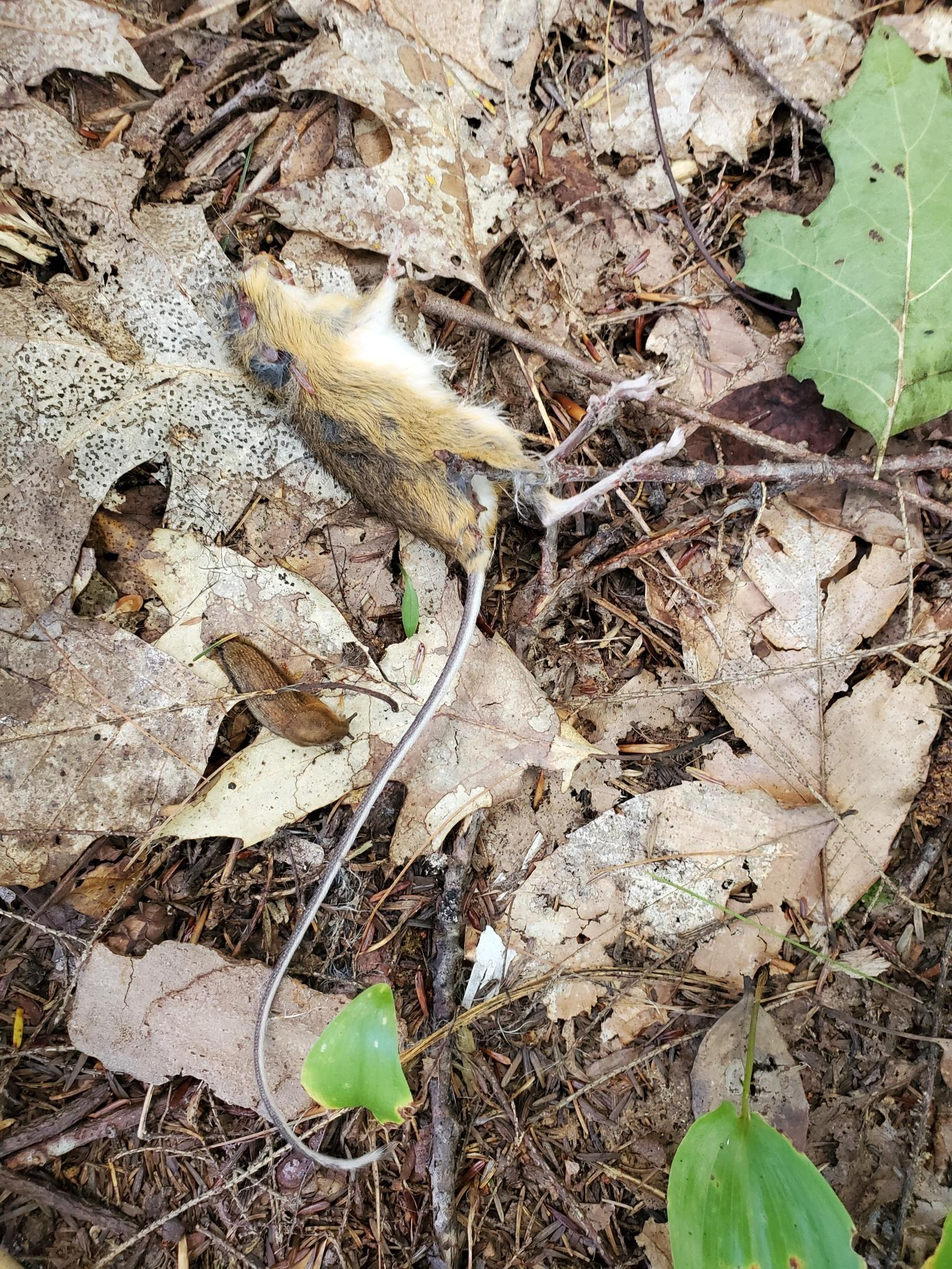rat: (235, 253, 531, 1169)
